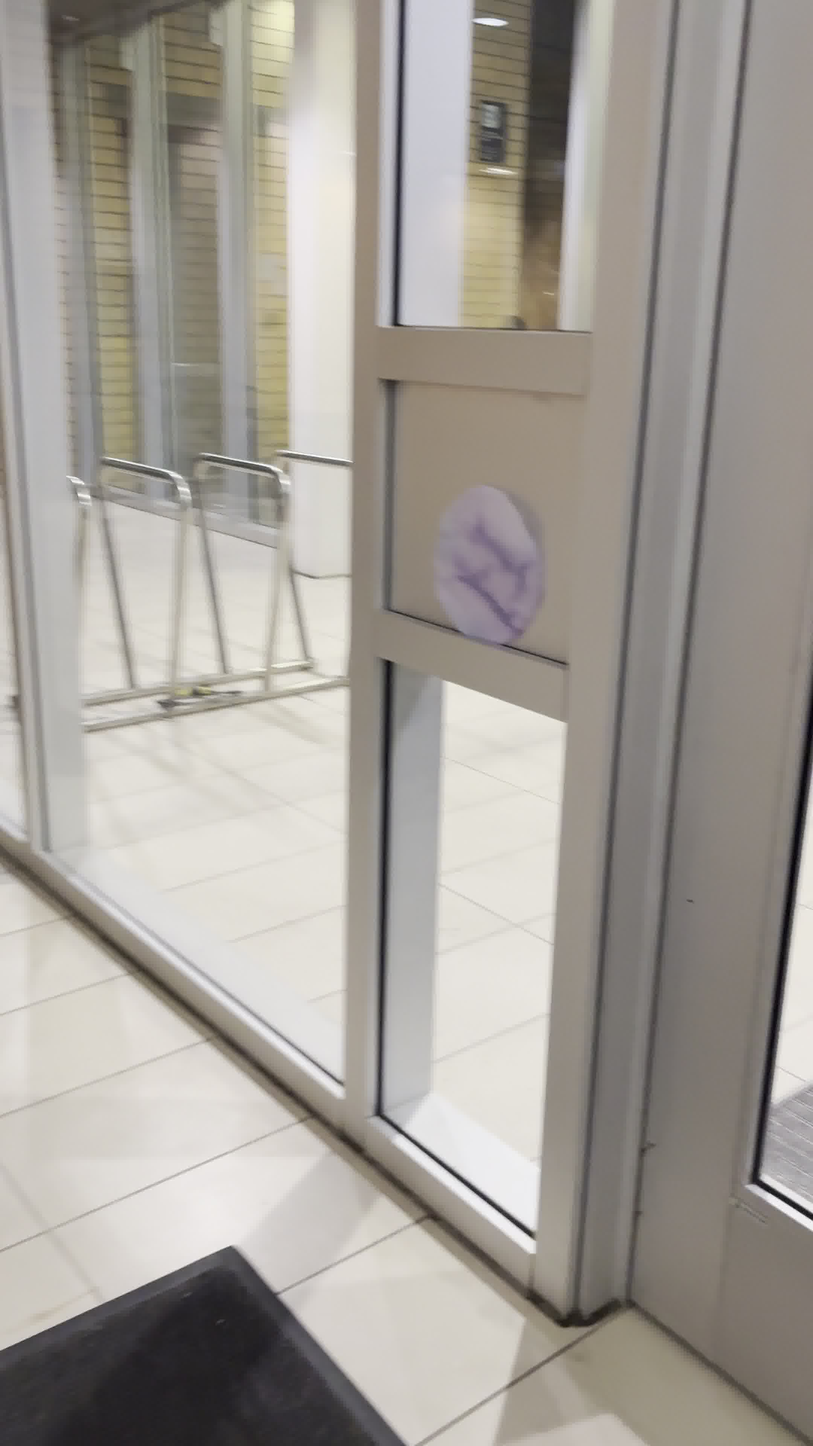Target: (427, 482, 554, 647)
